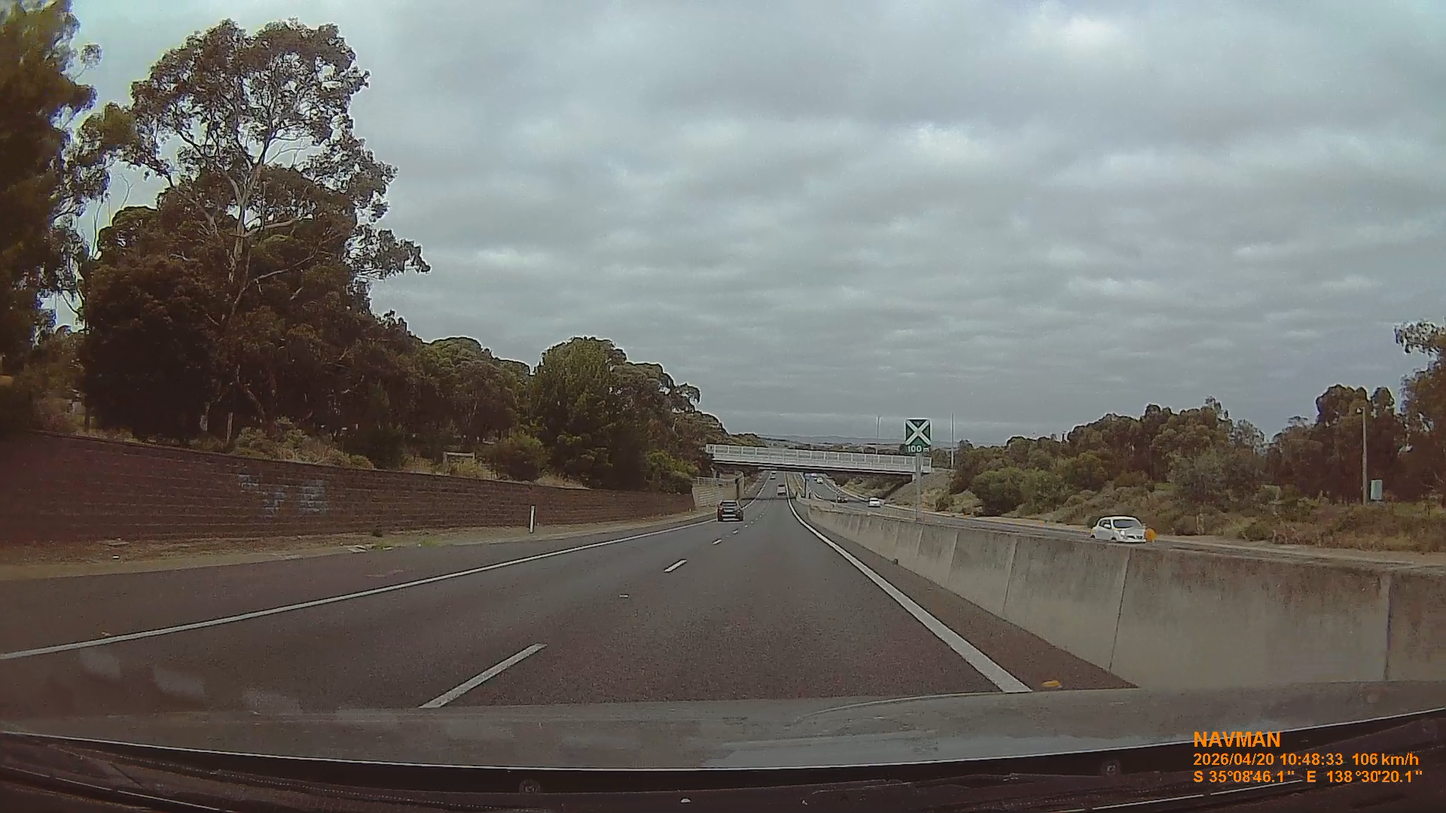fences: (0, 433, 692, 547)
road barriers: (821, 504, 1446, 687)
